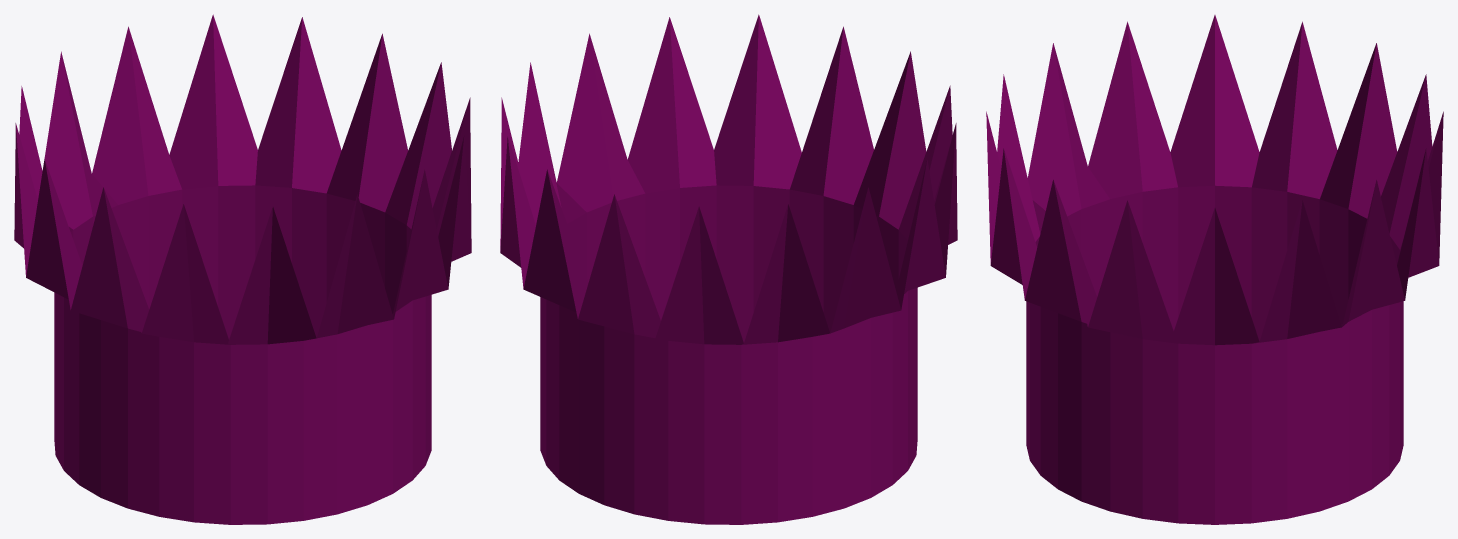
File: StolicaWroga.glb
3 views of the same model, side by side, from view 1: azimuth 30°, elevation 25°; view 2: azimuth 150°, elevation 25°; view 3: azimuth 270°, elevation 25° (orthographic).
Parts seen in each view (by area): view 1: StolicaWroga; view 2: StolicaWroga; view 3: StolicaWroga.
Boxes of the visible parts, <box> form: StolicaWroga: <box>14,14,471,524</box>; StolicaWroga: <box>500,14,957,524</box>; StolicaWroga: <box>986,15,1443,524</box>.
Bounding box in the file's own units: 1.52 × 1.23 × 1.52.
